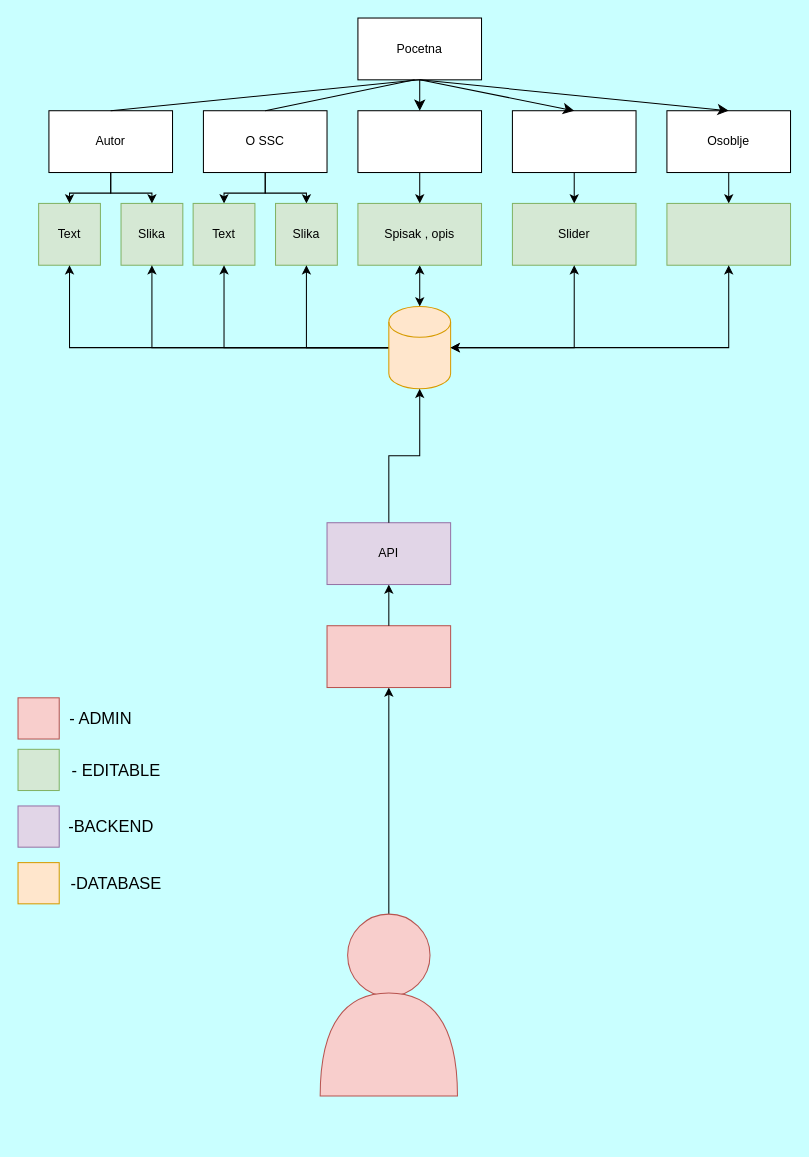
The diagram is 809 pixels wide and 1157 high, and some of its shapes have lost their labels. Each missing label, with the centre of its shape:
"Admin" belongs at [388,1044].
"ADMIN INTERFACE" belongs at [388,656].
"DB" belongs at [419,347].
"Kartice, opisi" belongs at [728,233].
"Odjeljenja" belongs at [419,141].
"Slike" belongs at [573,141].
